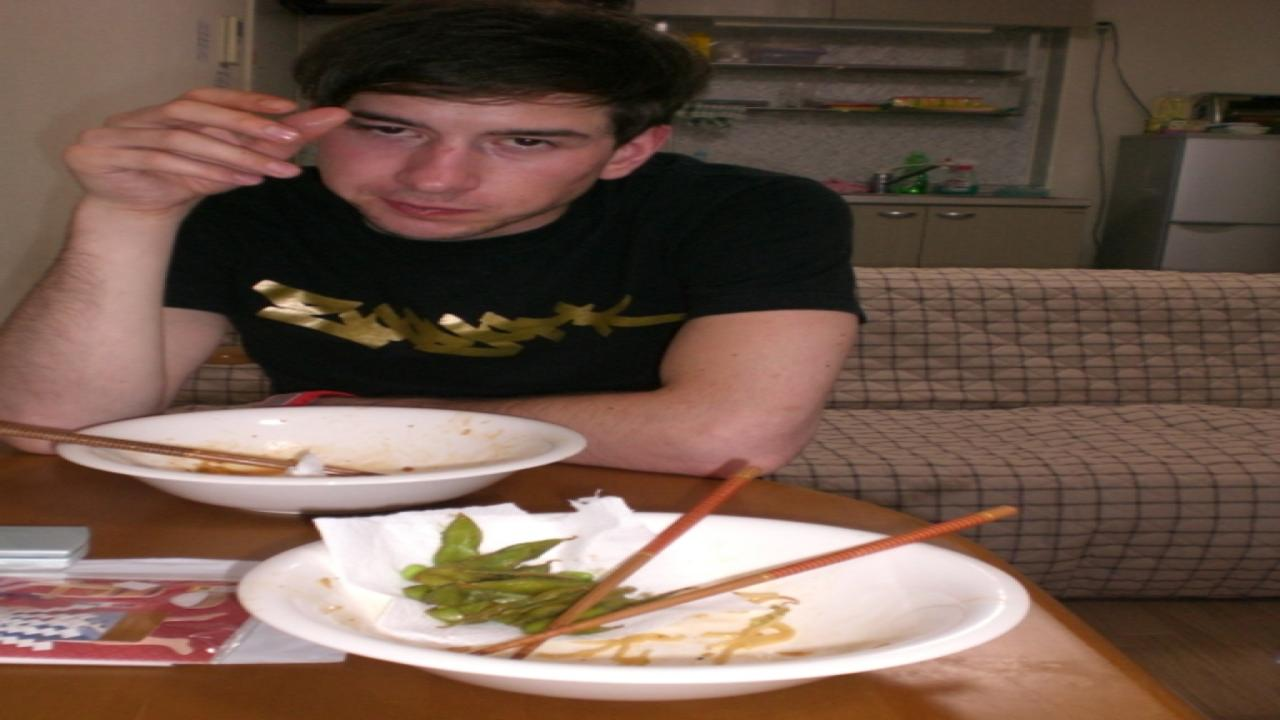chopstick: (481, 462, 1021, 669), (8, 409, 382, 476)
